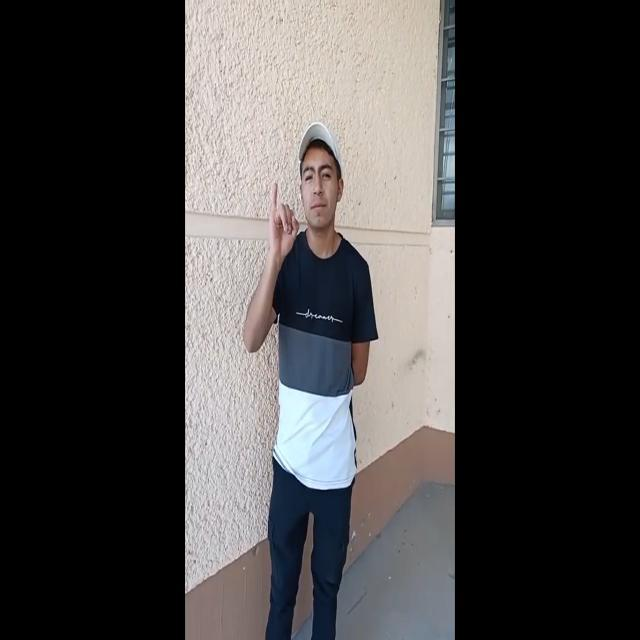I: (264, 182, 310, 276)
